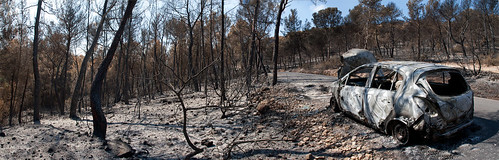car: (324, 50, 482, 146)
vegetation: (1, 1, 499, 91)
